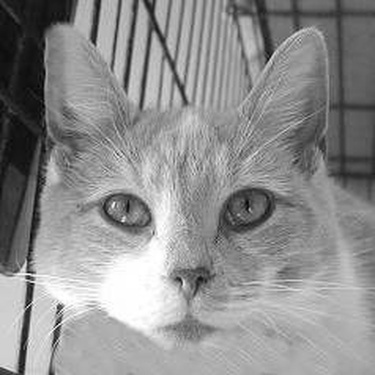cat: (8, 18, 361, 373)
